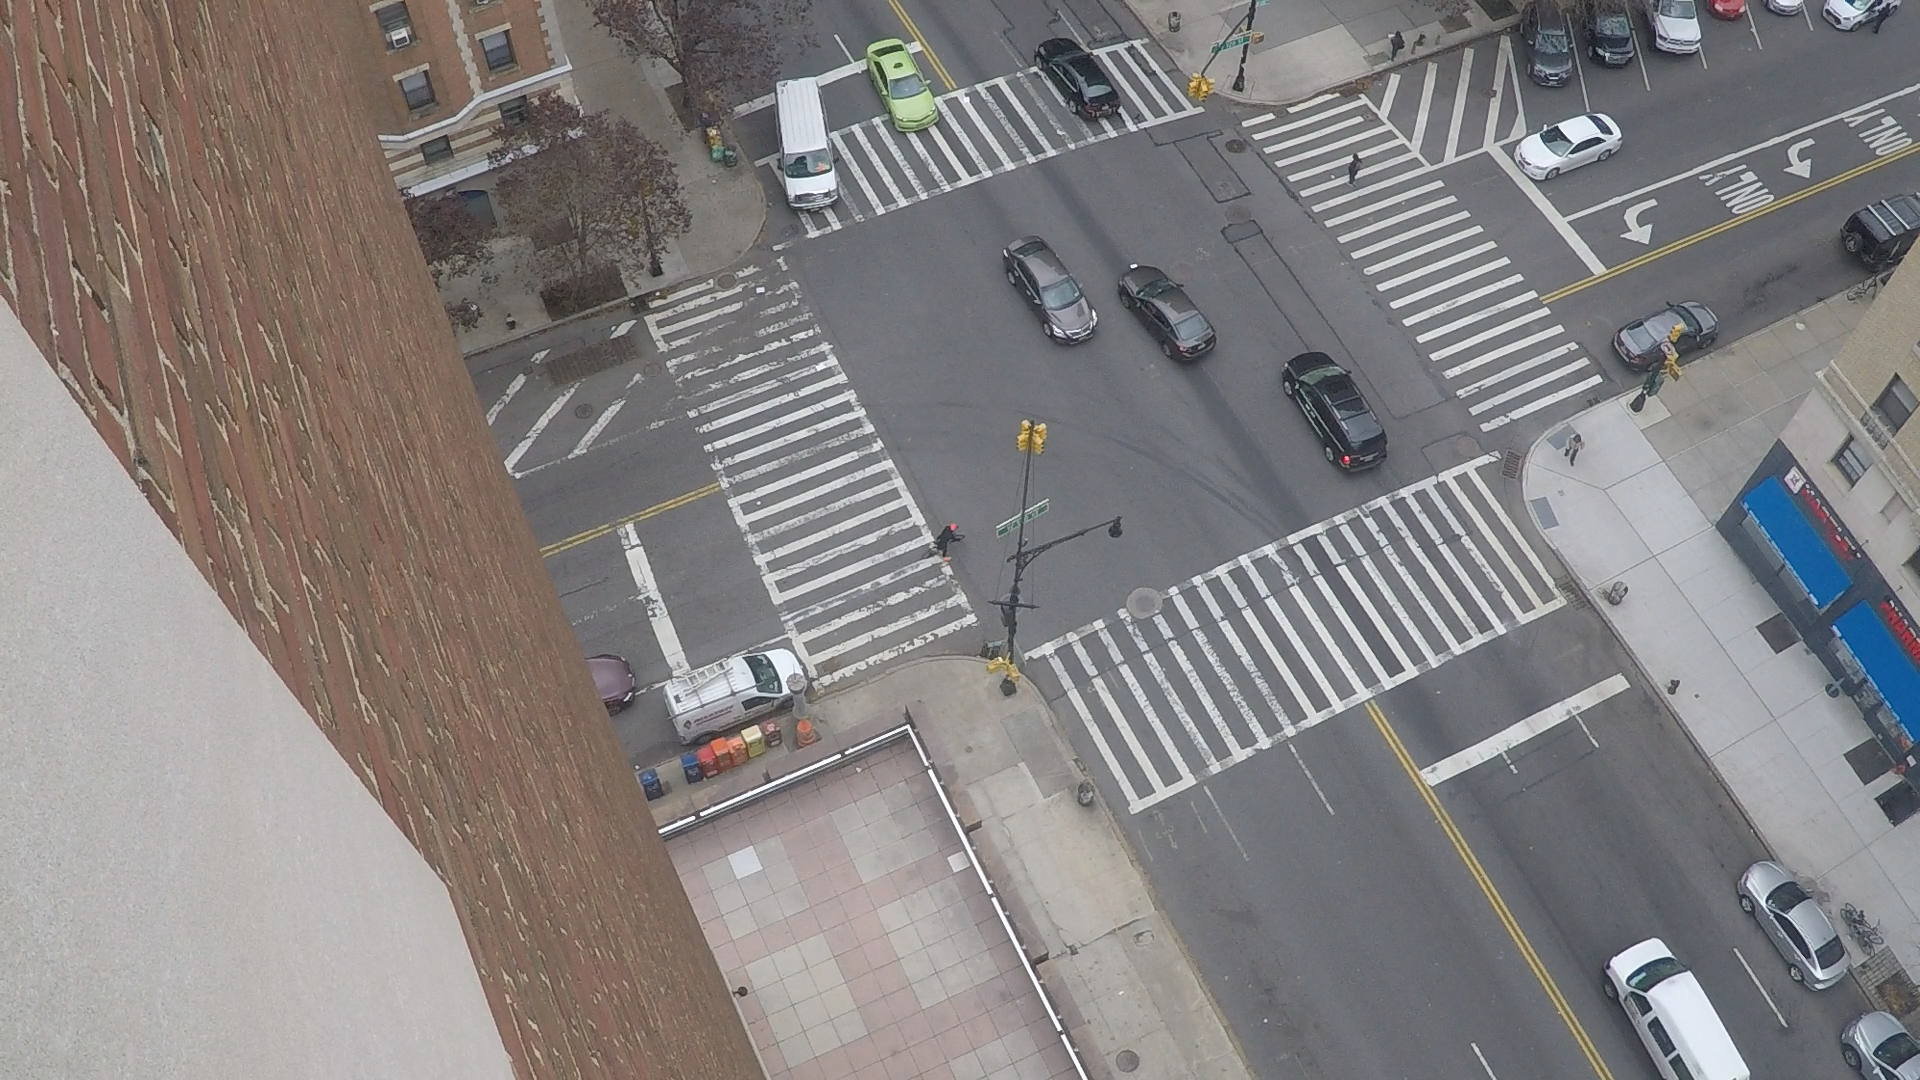Car: (822, 88, 831, 131), (915, 59, 926, 79), (1760, 0, 1764, 5), (1643, 0, 1644, 9), (1704, 0, 1705, 7)
